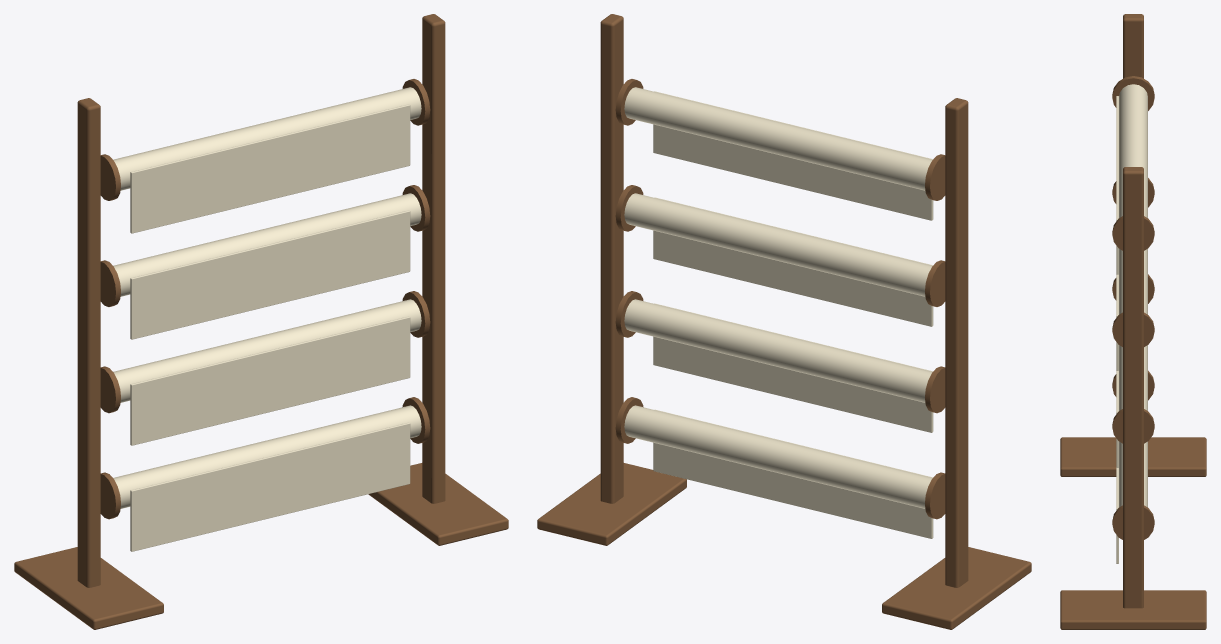
Rendered from fantasy-cartographers-map-printing-guild-hanging-map-r-0349363d__32266.glb.
3 views of the same model, side by side, from view 1: azimuth 30°, elevation 25°; view 2: azimuth 150°, elevation 25°; view 3: azimuth 270°, elevation 25° (orthographic). The views are drawn at different scales.
Visible parts, largest first — view 1: hanging-map-roller-rack; view 2: hanging-map-roller-rack; view 3: hanging-map-roller-rack.
Part boxes in pixels (x1,y1,x2,y2): hanging-map-roller-rack: [14, 14, 508, 629]; hanging-map-roller-rack: [537, 14, 1031, 629]; hanging-map-roller-rack: [1060, 14, 1206, 629].
Bounding box in the file's own units: 1.64 × 1.85 × 0.55.
